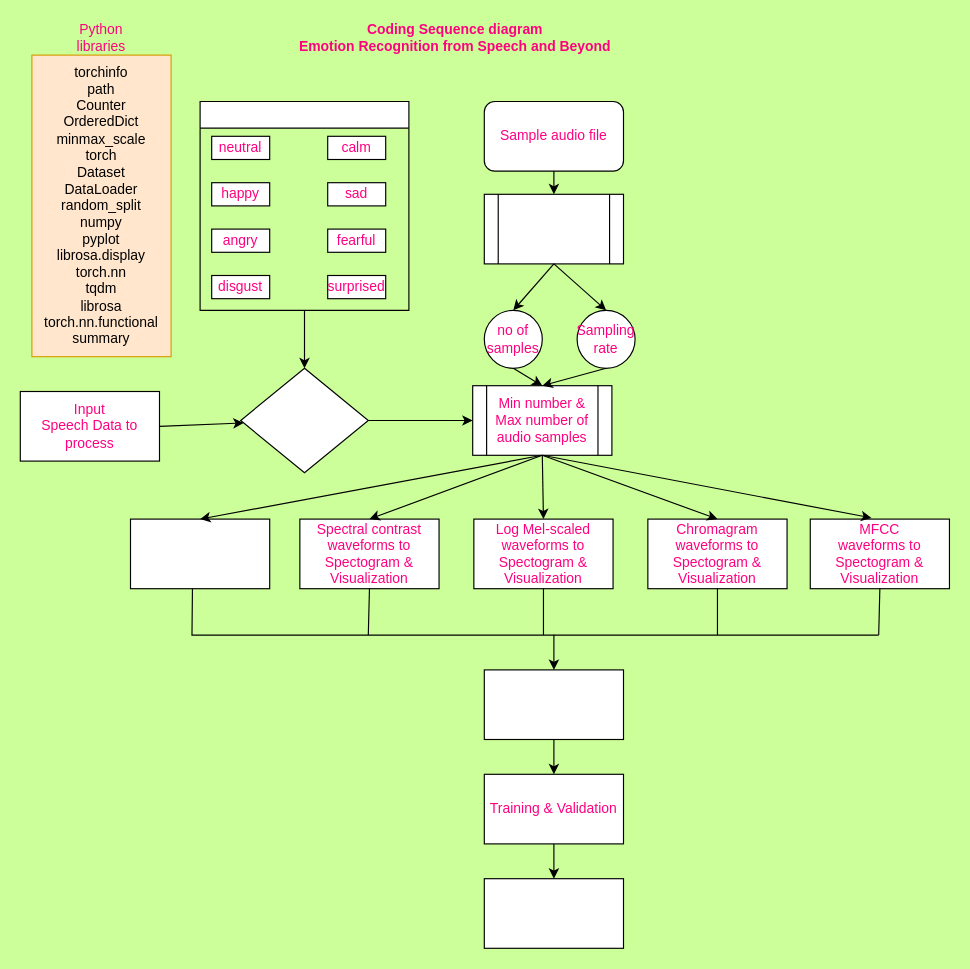
Some shapes in this 970 by 969 pixel diagram are drawn without their labels. The shapes that lost their labels are listed below. From the top down, each one's box as (x1, y1, x2, y2) in pixels, then its label:
(199, 100, 409, 310): Emotions labeling
(483, 193, 624, 264): Analyzing using librosa in time series domain
(240, 367, 368, 473): label each wav file with emotions
(129, 518, 270, 589): Tonnetz (Tonal centroids) waveforms to Spectogram & Visualization
(483, 669, 624, 740): Prepare Dataset
(483, 878, 624, 948): Train the model with CNN
